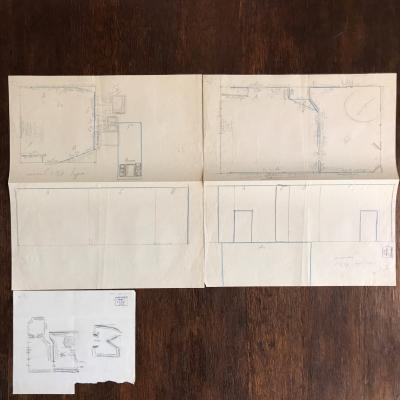document: (7, 73, 400, 396)
